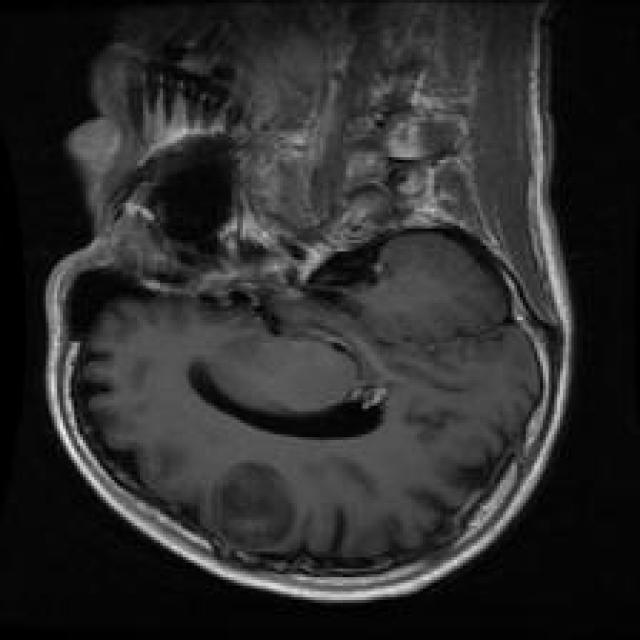glioma_tumor: (194, 448, 309, 564)
